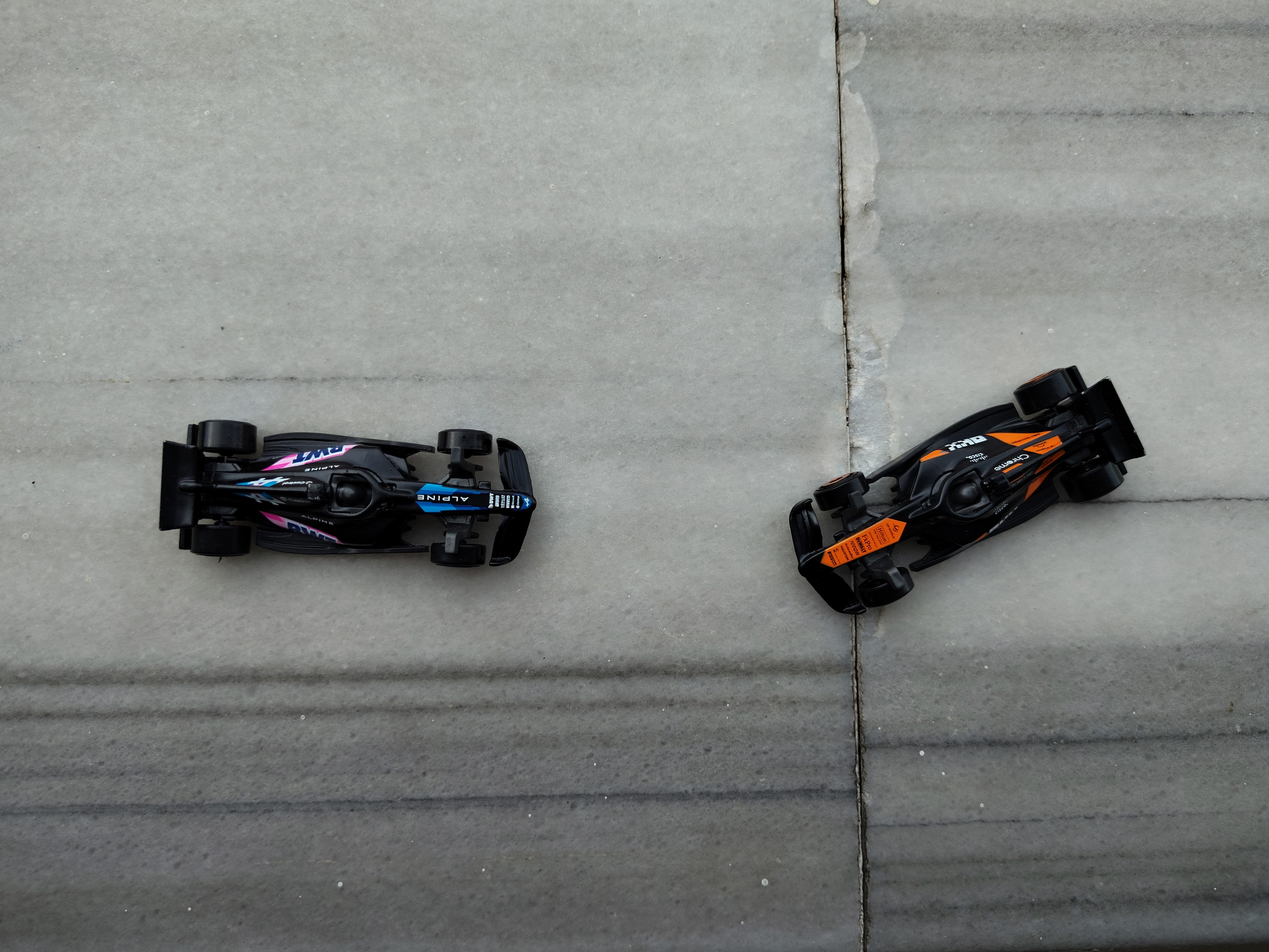Alpine A524: (105, 355, 646, 634)
McLaren MCL40: (745, 294, 1191, 615)
